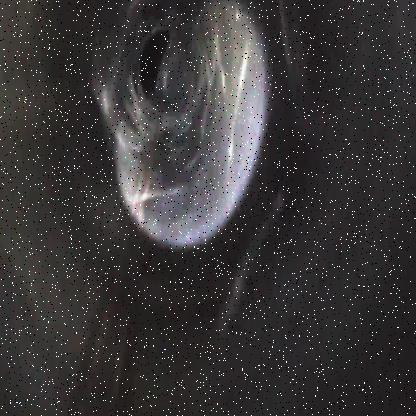Crack: (92, 0, 267, 245)
